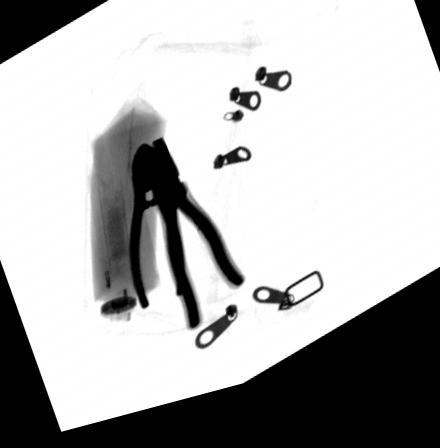Pliers: (149, 145, 245, 342), (127, 149, 187, 318)
